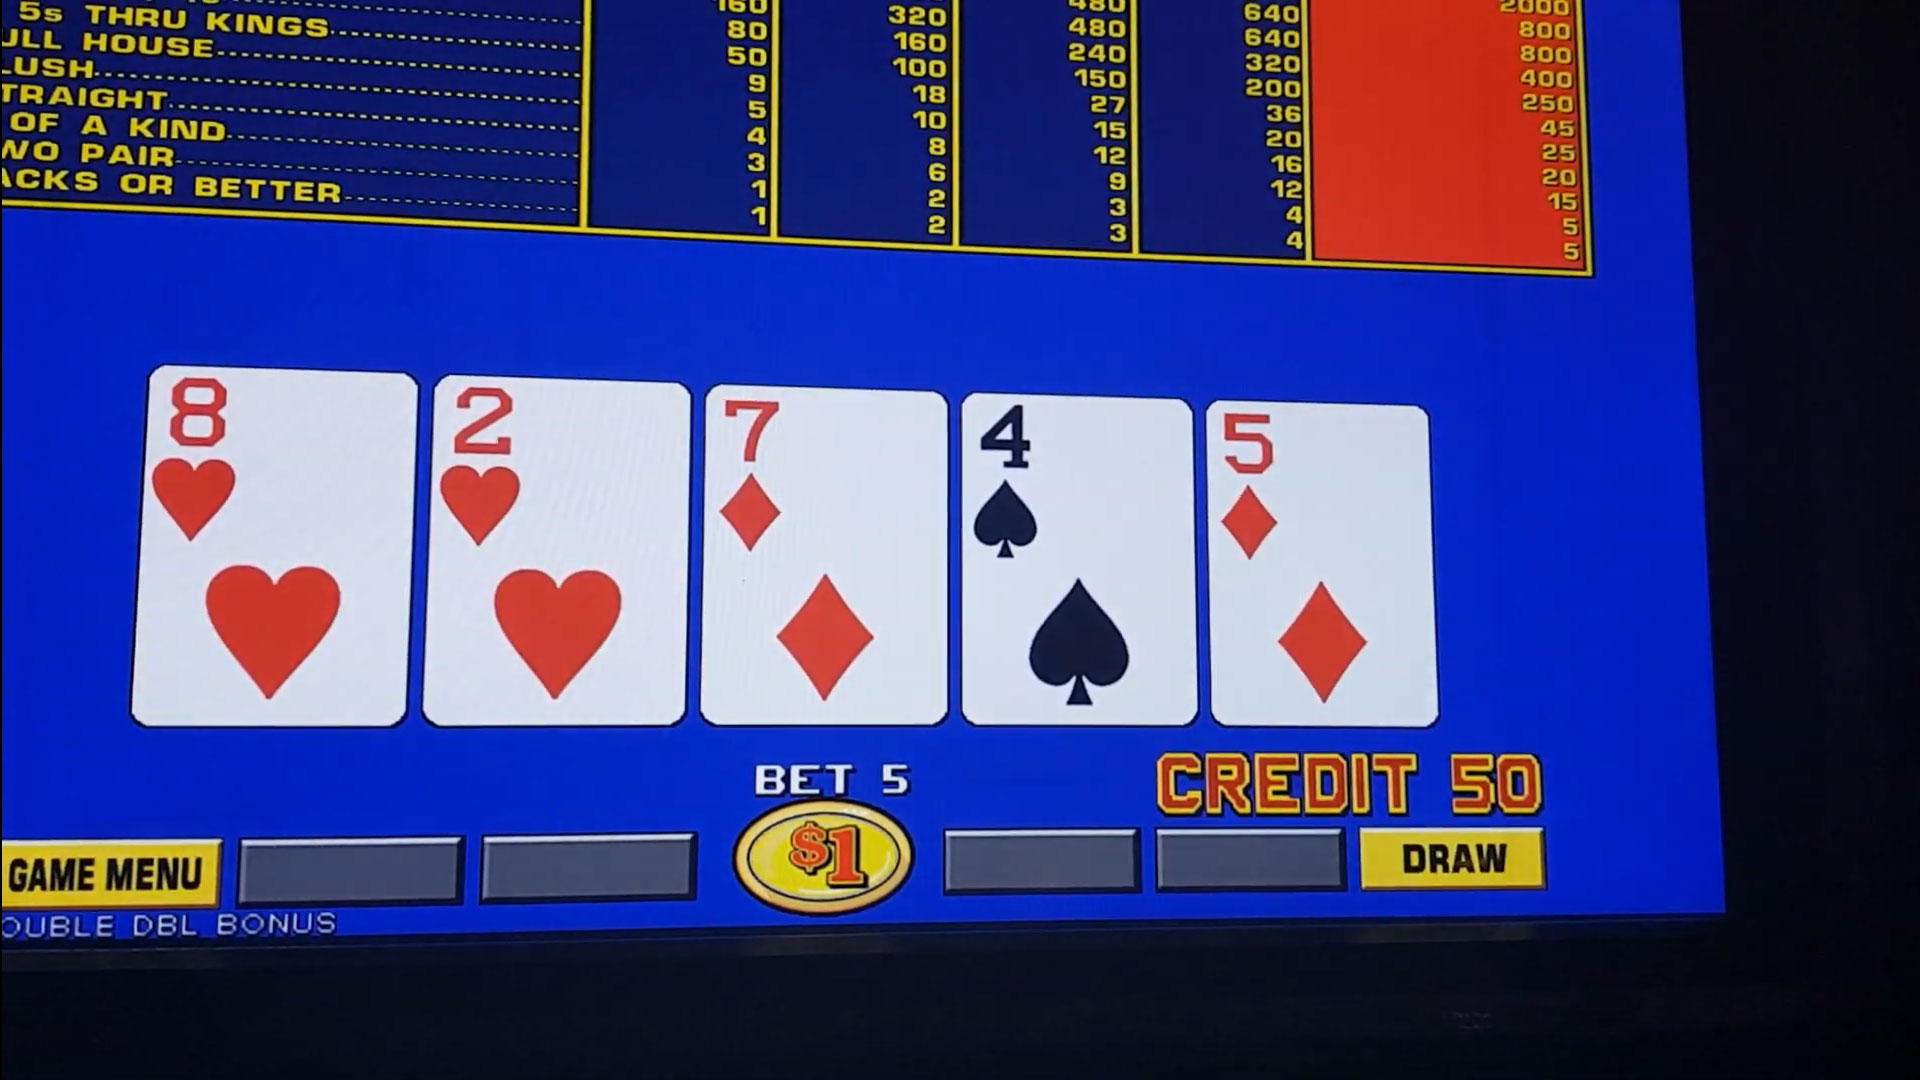D5: (1216, 411, 1424, 578)
D7: (707, 400, 947, 564)
H2: (433, 386, 686, 560)
H8: (153, 378, 409, 546)
S4: (967, 404, 1188, 574)
